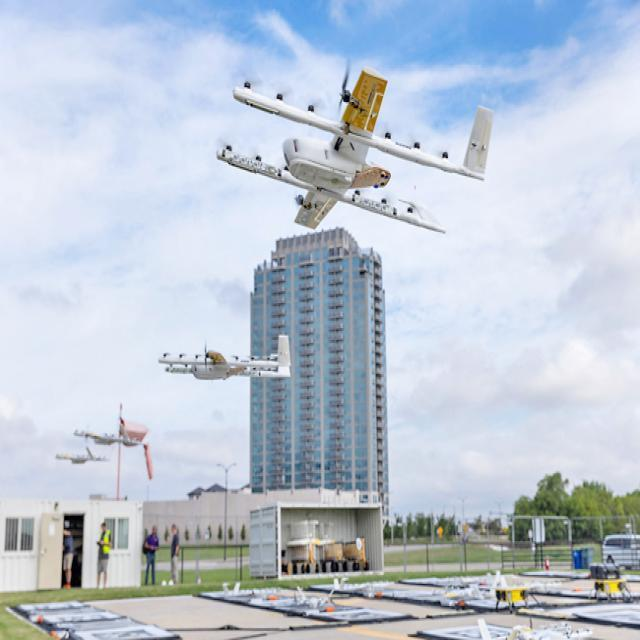iha: (218, 64, 503, 252)
